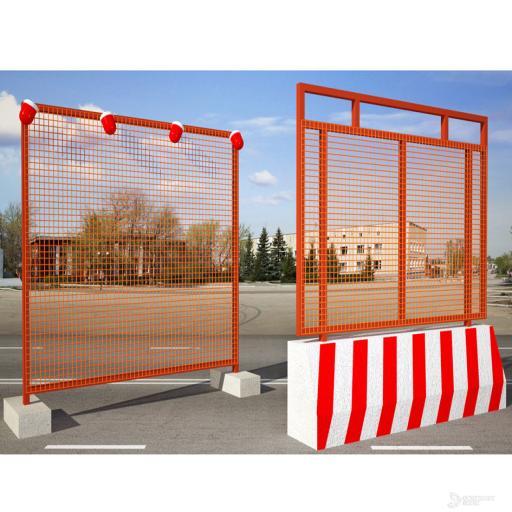bus_stop: (8, 90, 261, 442), (286, 77, 509, 450)
